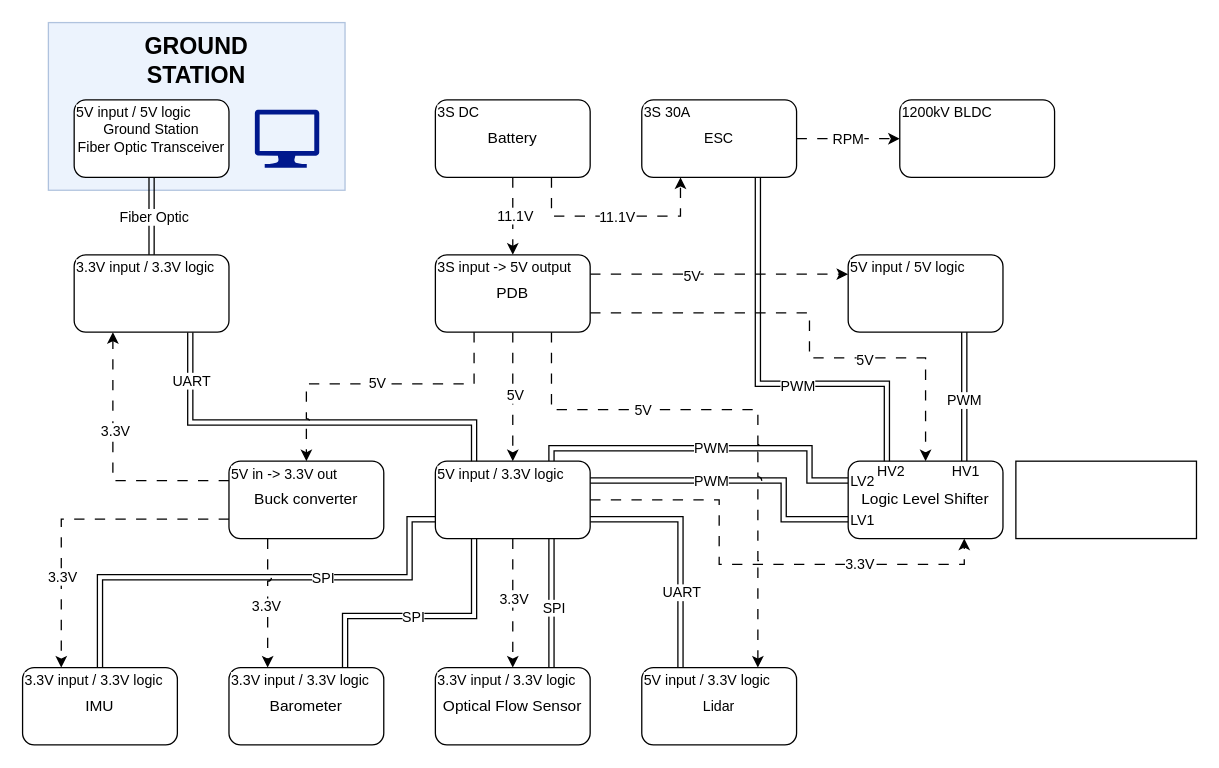
This 1219x768 diagram has some shape labels left out. Here are the shapes that lost their labels. From the top down, the box of each, then its label:
(898, 99, 1055, 177): Motor
(73, 253, 229, 332): Fiber Optic Transceiver
(847, 253, 1003, 332): Servomotor
(434, 460, 590, 539): Teensy
(1015, 460, 1196, 539): Converts 3.3V inputs to 5V outputs (LV1->HV1) (LV2->HV2)
